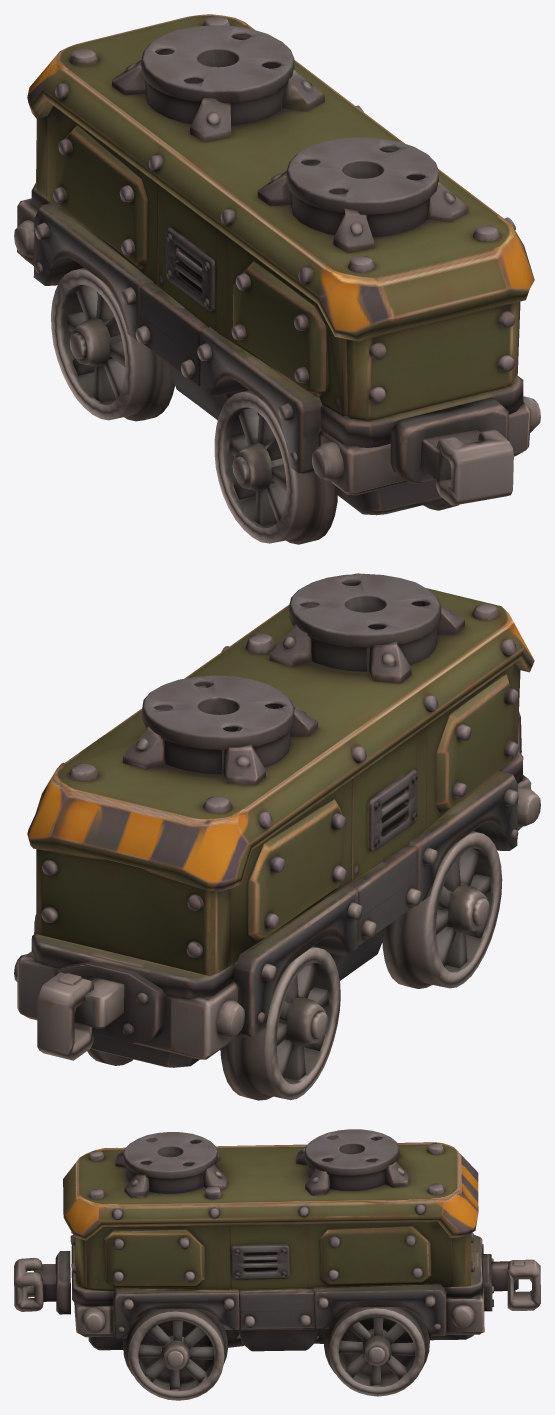
Rendered from wagon.fbx.
3 renders of one model, top to bottom at view 1: azimuth 30°, elevation 25°; view 2: azimuth 150°, elevation 25°; view 3: azimuth 270°, elevation 25°, orthographic. The views are drawn at different scales.
Visible parts, largest first — view 1: tripo_9729290b_c9ff_49d4_becc_5555ff9f8d39; view 2: tripo_9729290b_c9ff_49d4_becc_5555ff9f8d39; view 3: tripo_9729290b_c9ff_49d4_becc_5555ff9f8d39.
Boxes of the visible parts, box(x1,y1,x2,y2) form: tripo_9729290b_c9ff_49d4_becc_5555ff9f8d39: box(14, 14, 540, 544); tripo_9729290b_c9ff_49d4_becc_5555ff9f8d39: box(14, 573, 540, 1100); tripo_9729290b_c9ff_49d4_becc_5555ff9f8d39: box(14, 1129, 540, 1400).
Size of the model in its own units: 221 by 312 by 660.
1 material, 1 textured.
